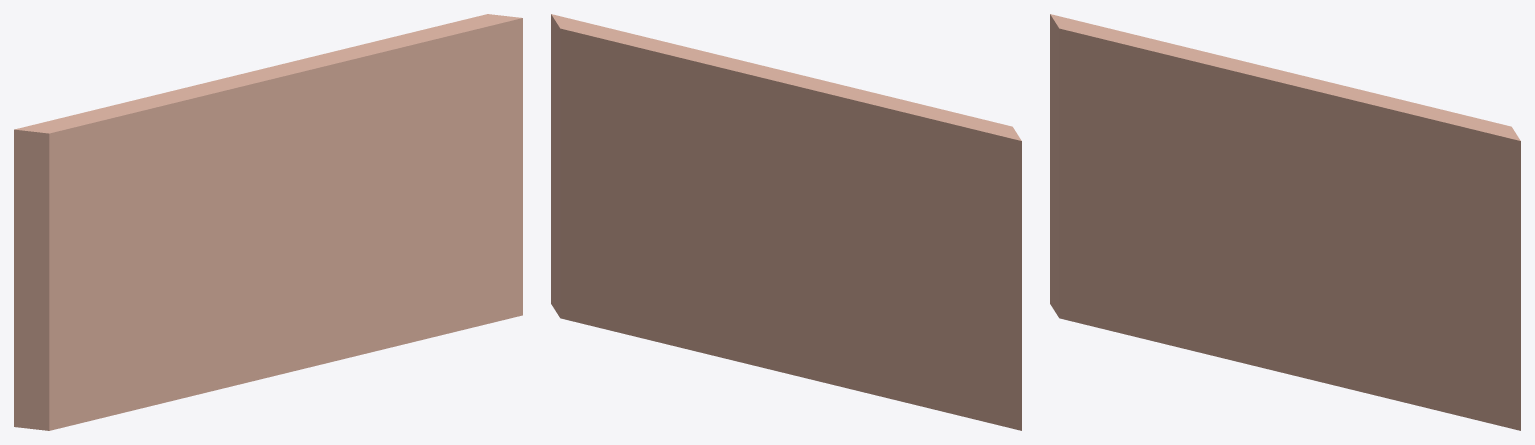
The model's file is Walls and Floors with Doors.fbx_CWall_Inner_Outer.fbx.
3 renders of one model, left to right at view 1: azimuth 30°, elevation 25°; view 2: azimuth 150°, elevation 25°; view 3: azimuth 330°, elevation 25°, orthographic. The views are drawn at different scales.
Visible parts, largest first — view 1: CWall Inner Outer; view 2: CWall Inner Outer; view 3: CWall Inner Outer.
Boxes of the visible parts, x1,y1,x2,y2 form: CWall Inner Outer: [14, 14, 522, 430]; CWall Inner Outer: [551, 14, 1021, 430]; CWall Inner Outer: [1050, 14, 1520, 430].
Size of the model in its own units: 1571 by 900 by 70.71.
